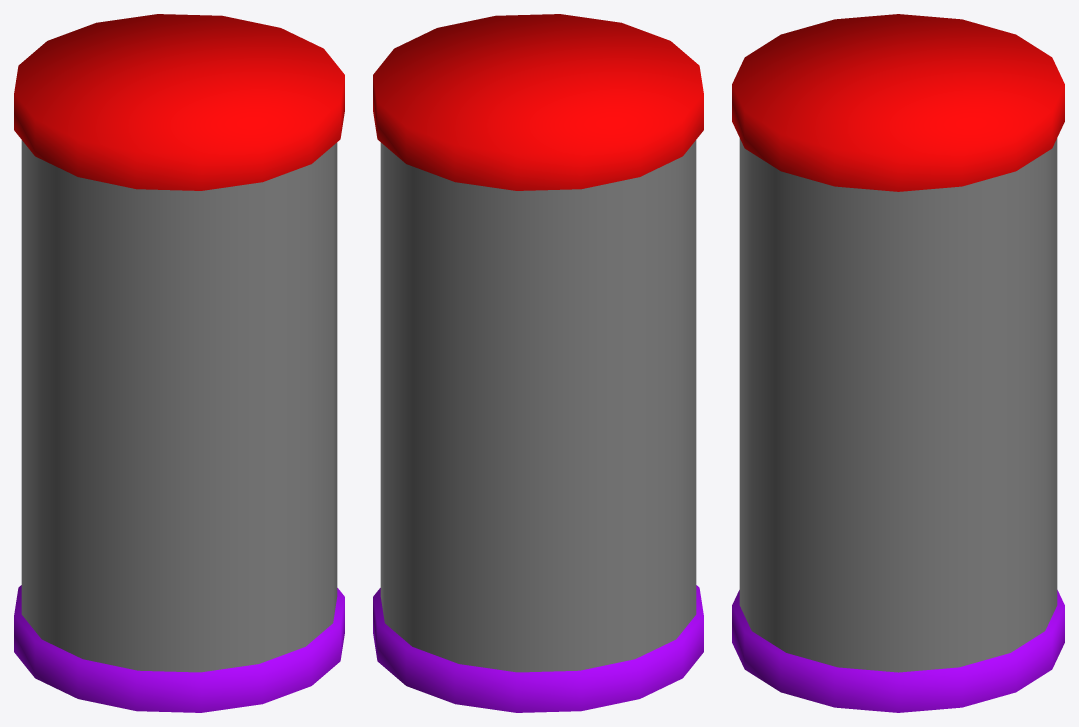
File: Laboratory 1.FBX
3 renders of one model, left to right at view 1: azimuth 30°, elevation 25°; view 2: azimuth 150°, elevation 25°; view 3: azimuth 270°, elevation 25°, orthographic.
Parts seen in each view (by area): view 1: Object021, Object020; view 2: Object021, Object020; view 3: Object021, Object020.
Boxes of the visible parts, left/top/right/bottom form: Object021: left=21, top=140, right=337, bottom=672; Object020: left=14, top=14, right=344, bottom=712; Object021: left=380, top=140, right=696, bottom=672; Object020: left=373, top=14, right=703, bottom=712; Object021: left=739, top=138, right=1057, bottom=672; Object020: left=732, top=14, right=1064, bottom=712.
Bounding box in the file's own units: 91.29 × 169 × 91.29.
